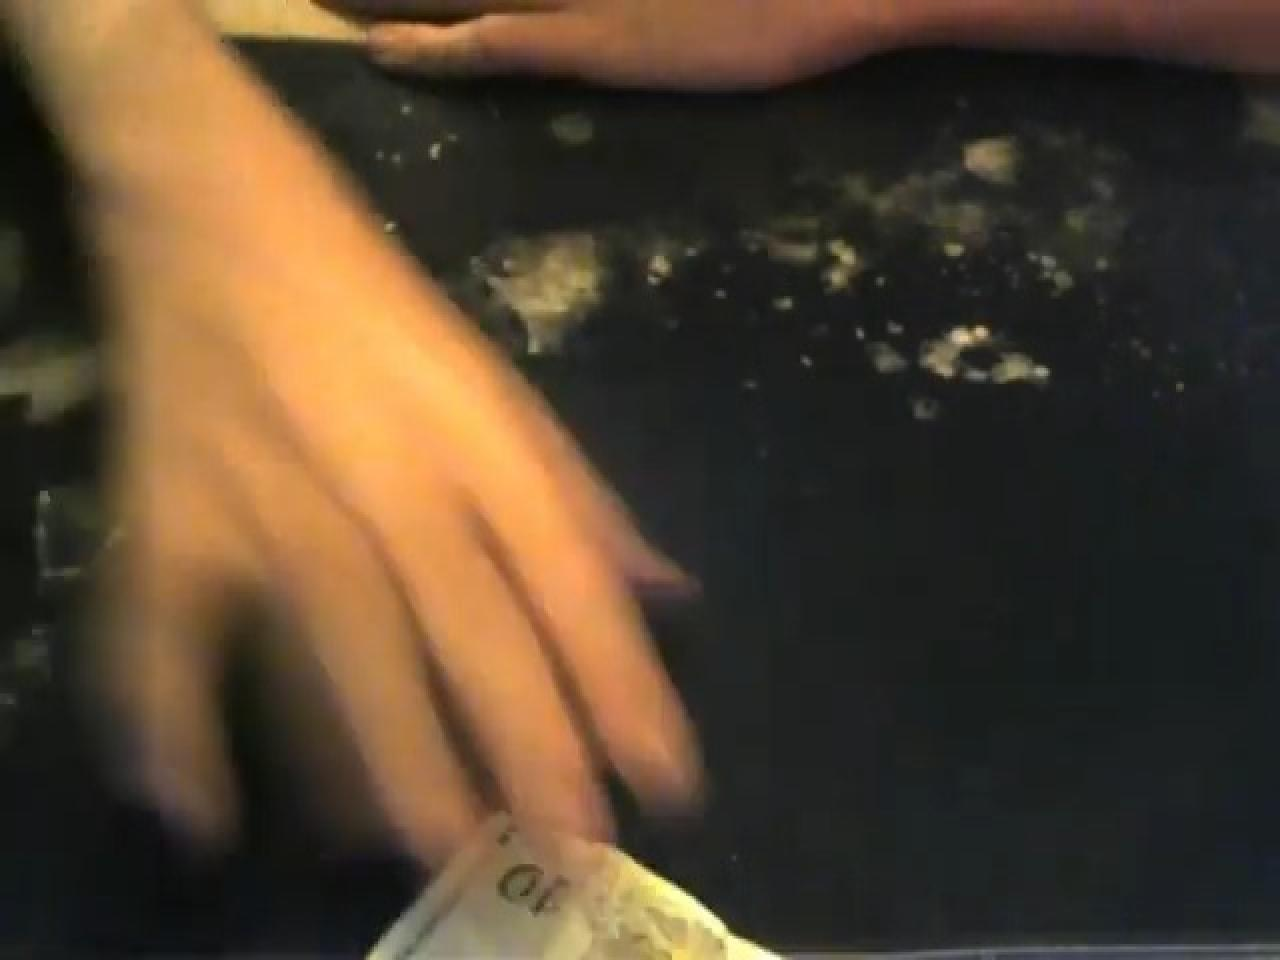10leva: (362, 816, 788, 960)
